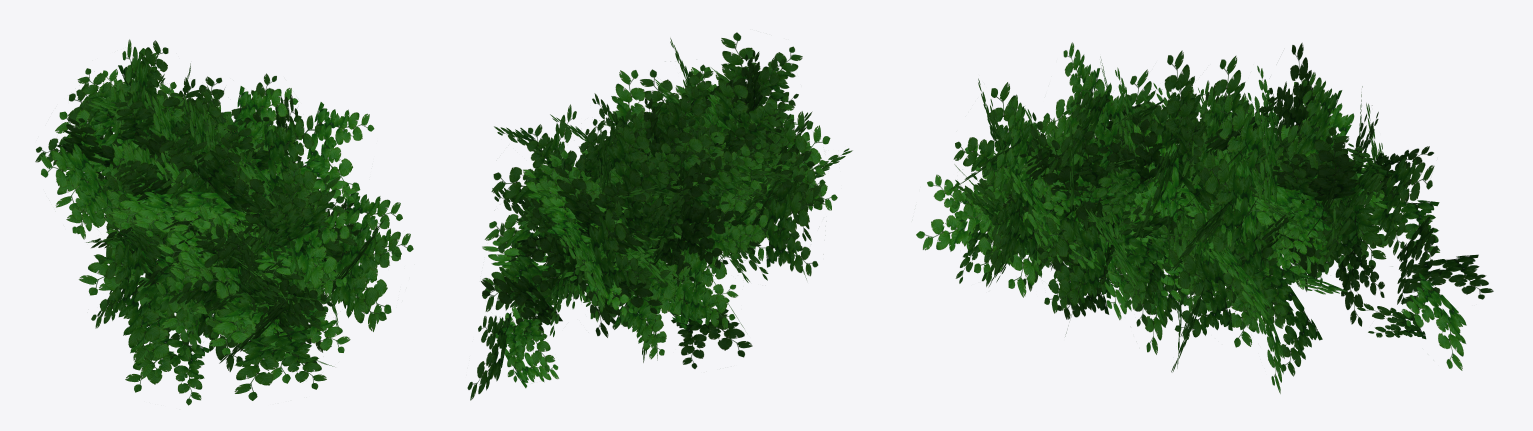
File: bush2.gltf
3 views of the same model, side by side, from view 1: azimuth 30°, elevation 25°; view 2: azimuth 150°, elevation 25°; view 3: azimuth 270°, elevation 25° (orthographic). The views are drawn at different scales.
Parts seen in each view (by area): view 1: leaves_0; view 2: leaves_0; view 3: leaves_0.
Part boxes in pixels (bbox=[...]): leaves_0: bbox=[35, 39, 413, 405]; leaves_0: bbox=[467, 32, 852, 400]; leaves_0: bbox=[916, 42, 1493, 393].
Bounding box in the file's own units: 72.5 × 69.92 × 107.
Materials: 1 (1 with a texture image).
